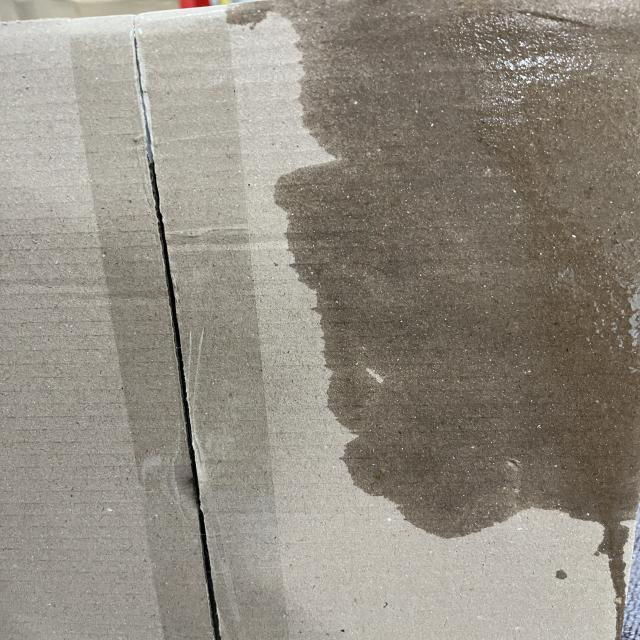wet: (262, 1, 640, 528)
